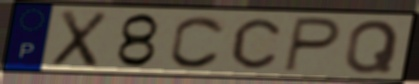8: (115, 12, 161, 69)
C: (167, 14, 228, 71), (230, 17, 283, 71)
P: (280, 15, 344, 75)
Q: (342, 18, 402, 75)
X: (48, 8, 111, 69)
